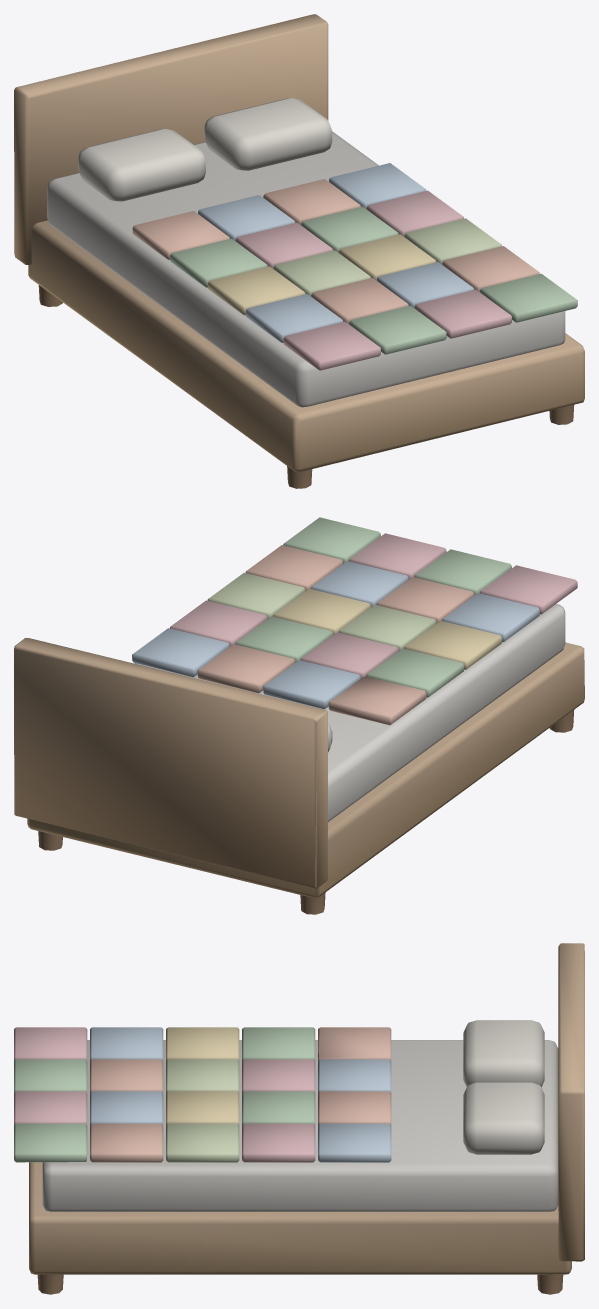
File: quilt_bed.glb
The picture shows the model from 3 angles, top to bottom: view 1: azimuth 30°, elevation 25°; view 2: azimuth 150°, elevation 25°; view 3: azimuth 270°, elevation 25°; orthographic projection.
Parts seen in each view (by area): view 1: quilt_bed; view 2: quilt_bed; view 3: quilt_bed.
Part boxes in pixels (x1,y1,x2,y2): quilt_bed: (14,14,584,488); quilt_bed: (14,517,584,914); quilt_bed: (14,943,584,1294).
Bounding box in the file's own units: 1.3 × 0.85 × 2.1.
